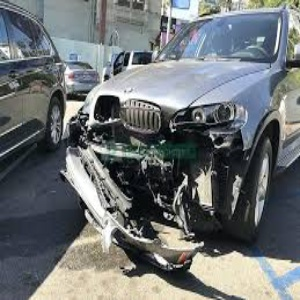bumper: (83, 136, 220, 265)
